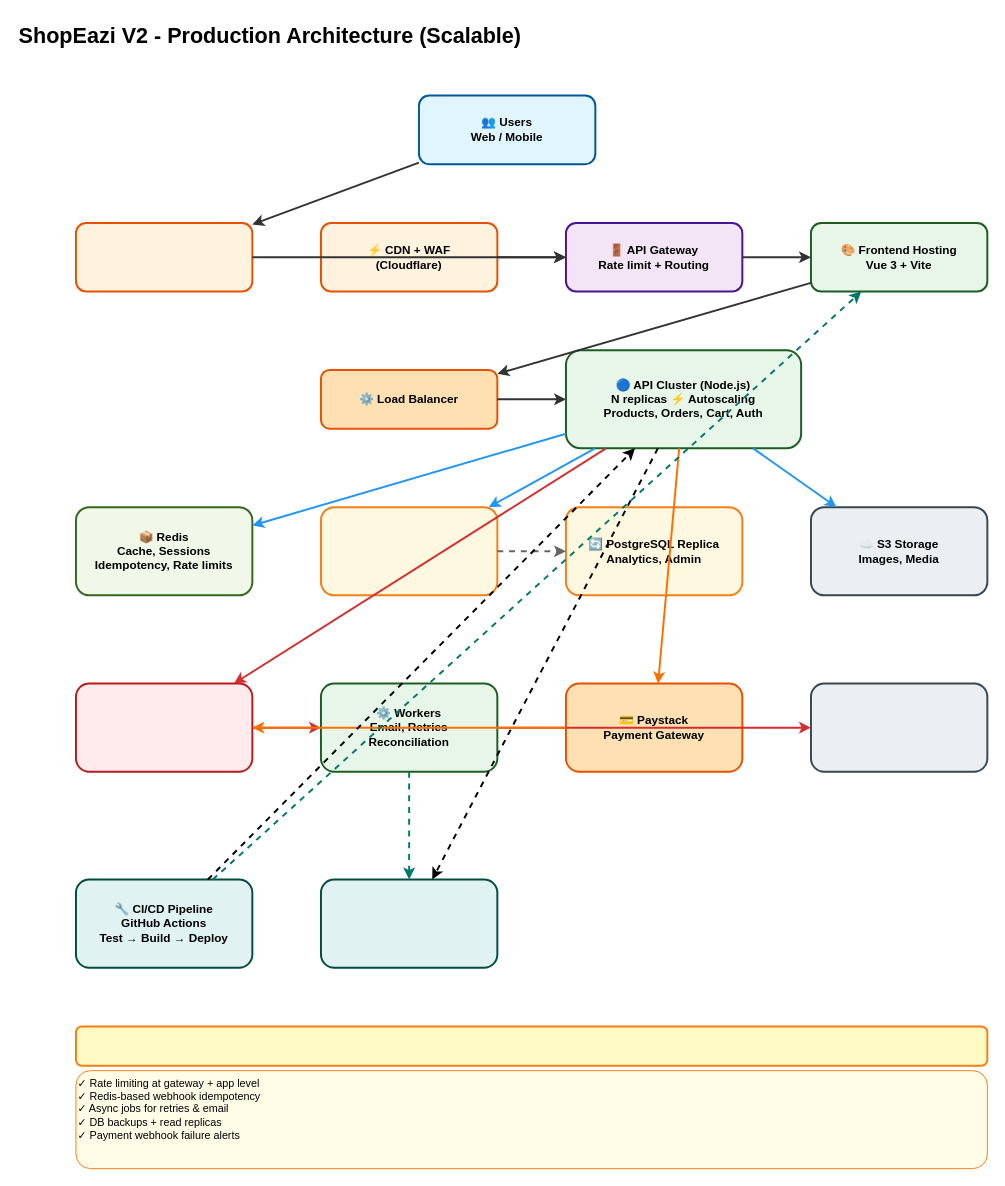
Image size: 1005x1186. Some labels were removed from this diagram. The box of each missing label's shape, as (x1, y1, x2, y2) in pixels:
🌐 DNS + TLS shopeazi.shop: (74, 221, 253, 292)
📊 Observability Logs, Metrics, Traces (Sentry + Prometheus): (319, 878, 498, 968)
📧 Email Service (SES / SMTP): (809, 682, 988, 772)
📬 Message Queue (SQS/RabbitMQ) Async jobs: (74, 682, 253, 772)
🔐 SECURITY & RELIABILITY CONTROLS: (74, 1025, 988, 1066)
🗄️ PostgreSQL (Primary) Orders, Users, Products: (319, 506, 498, 596)
